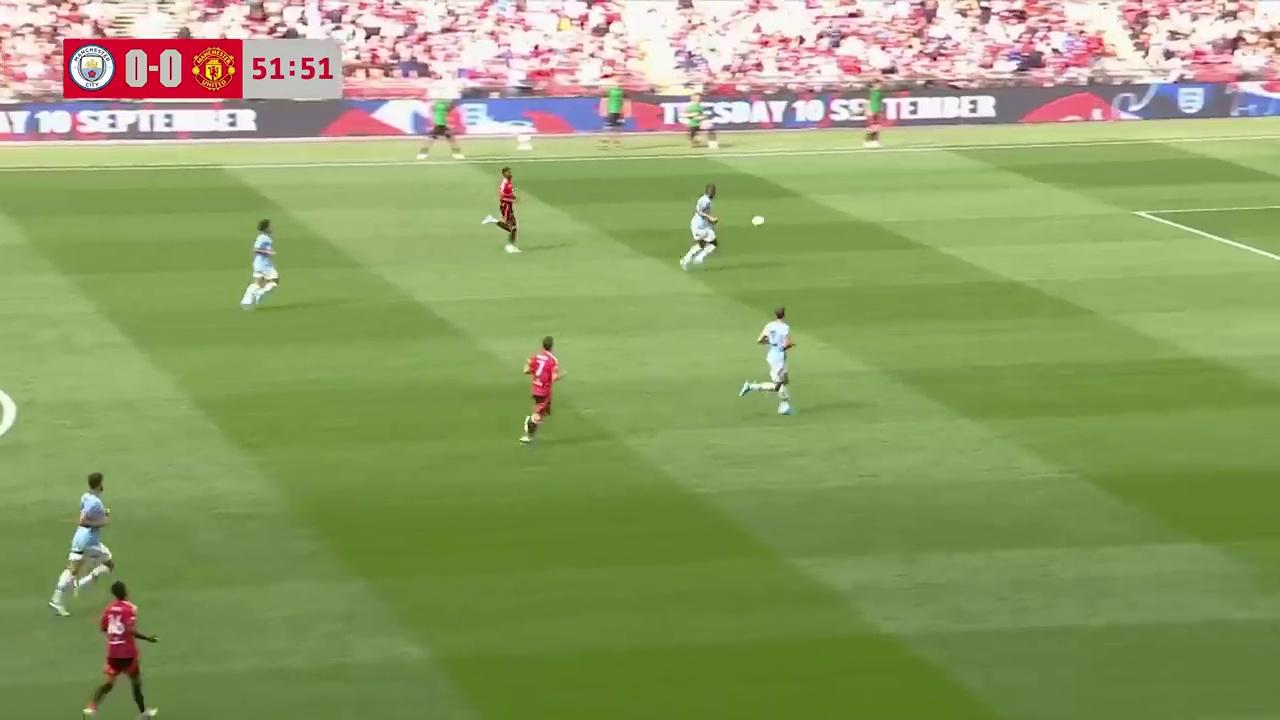ball: (750, 210, 767, 227)
player: (86, 577, 160, 717), (43, 473, 113, 620), (741, 306, 794, 416), (520, 336, 562, 442), (680, 174, 722, 270), (239, 220, 280, 309), (498, 168, 520, 252)
